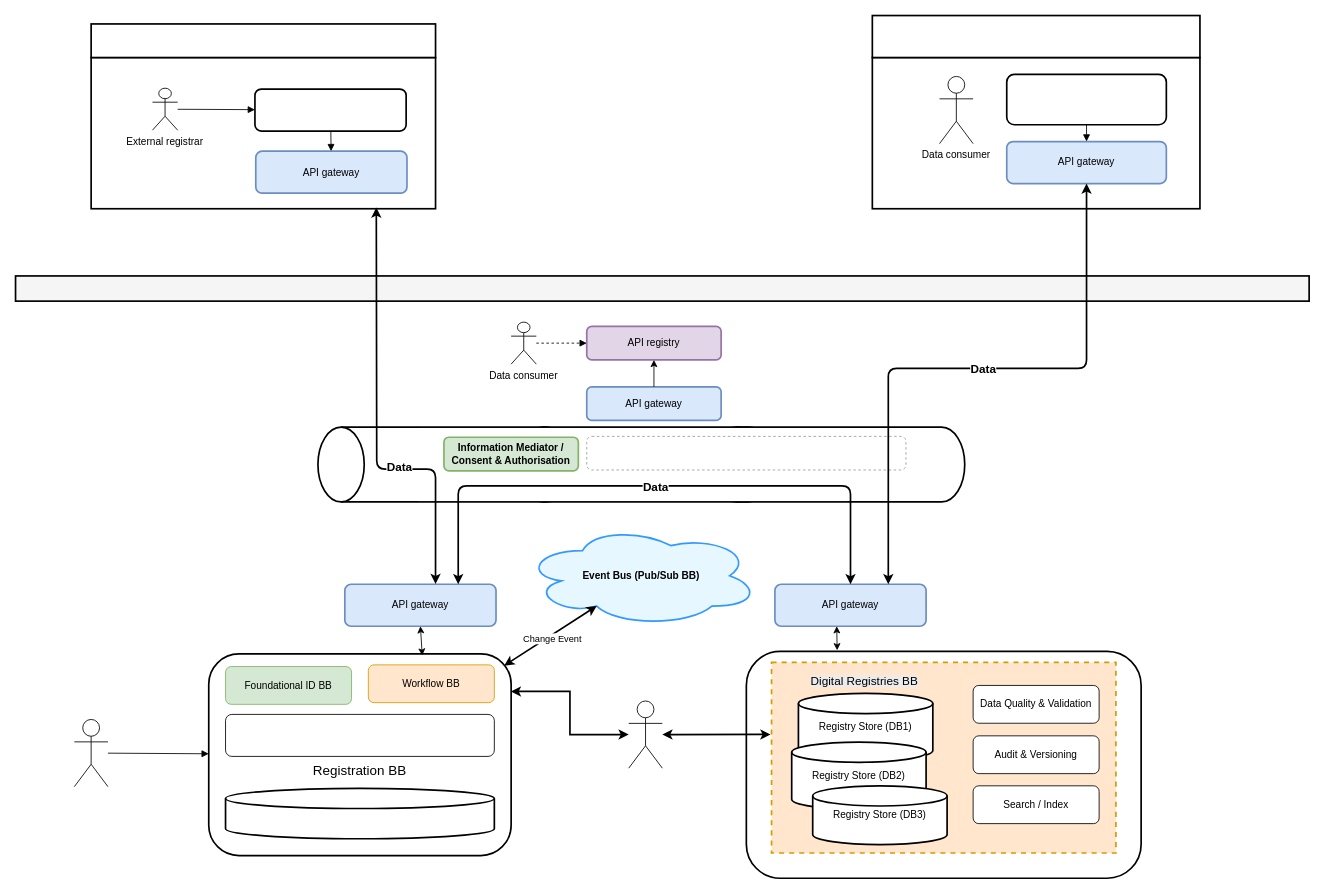
The diagram is 1324 pixels wide and 893 high, and some of its shapes have lost their labels. Each missing label, with the centre of its shape:
"Applicant" goes at point 91,753.
"Applications" goes at point 359,813.
"Back office staff" goes at point 645,734.
"Company B" goes at point 1035,36.
"Cross-cutting: Encryption • Masking • RBAC/ABAC" goes at point 746,453.
"Data API consumer app" goes at point 1086,99.
"Existing registry" goes at point 330,109.
"GOV Institution A" goes at point 263,40.
"GovStack Sandbox" goes at point 662,288.
"Screen flow: PART A, PART B" goes at point 359,735.
